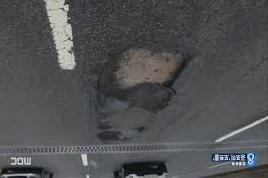pothole: (95, 45, 184, 124), (79, 127, 162, 146)
